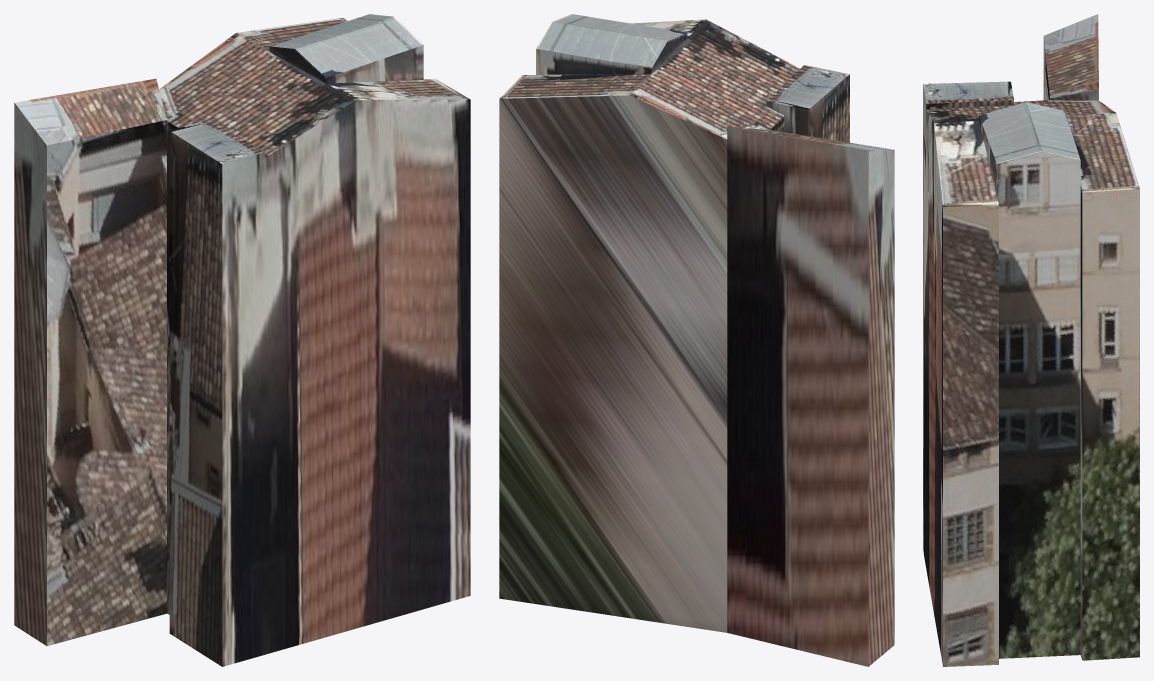
3 views of the same model, side by side, from view 1: azimuth 30°, elevation 25°; view 2: azimuth 150°, elevation 25°; view 3: azimuth 270°, elevation 25° (orthographic). The views are drawn at different scales.
Parts seen in each view (by area): view 1: Z_UP; view 2: Z_UP; view 3: Z_UP.
Part boxes in pixels (x1,y1,x2,y2): Z_UP: [14, 14, 470, 666]; Z_UP: [499, 14, 894, 666]; Z_UP: [923, 14, 1139, 666].
Bounding box in the file's own units: 13.98 × 19.59 × 7.61.
2 materials, 1 textured.
